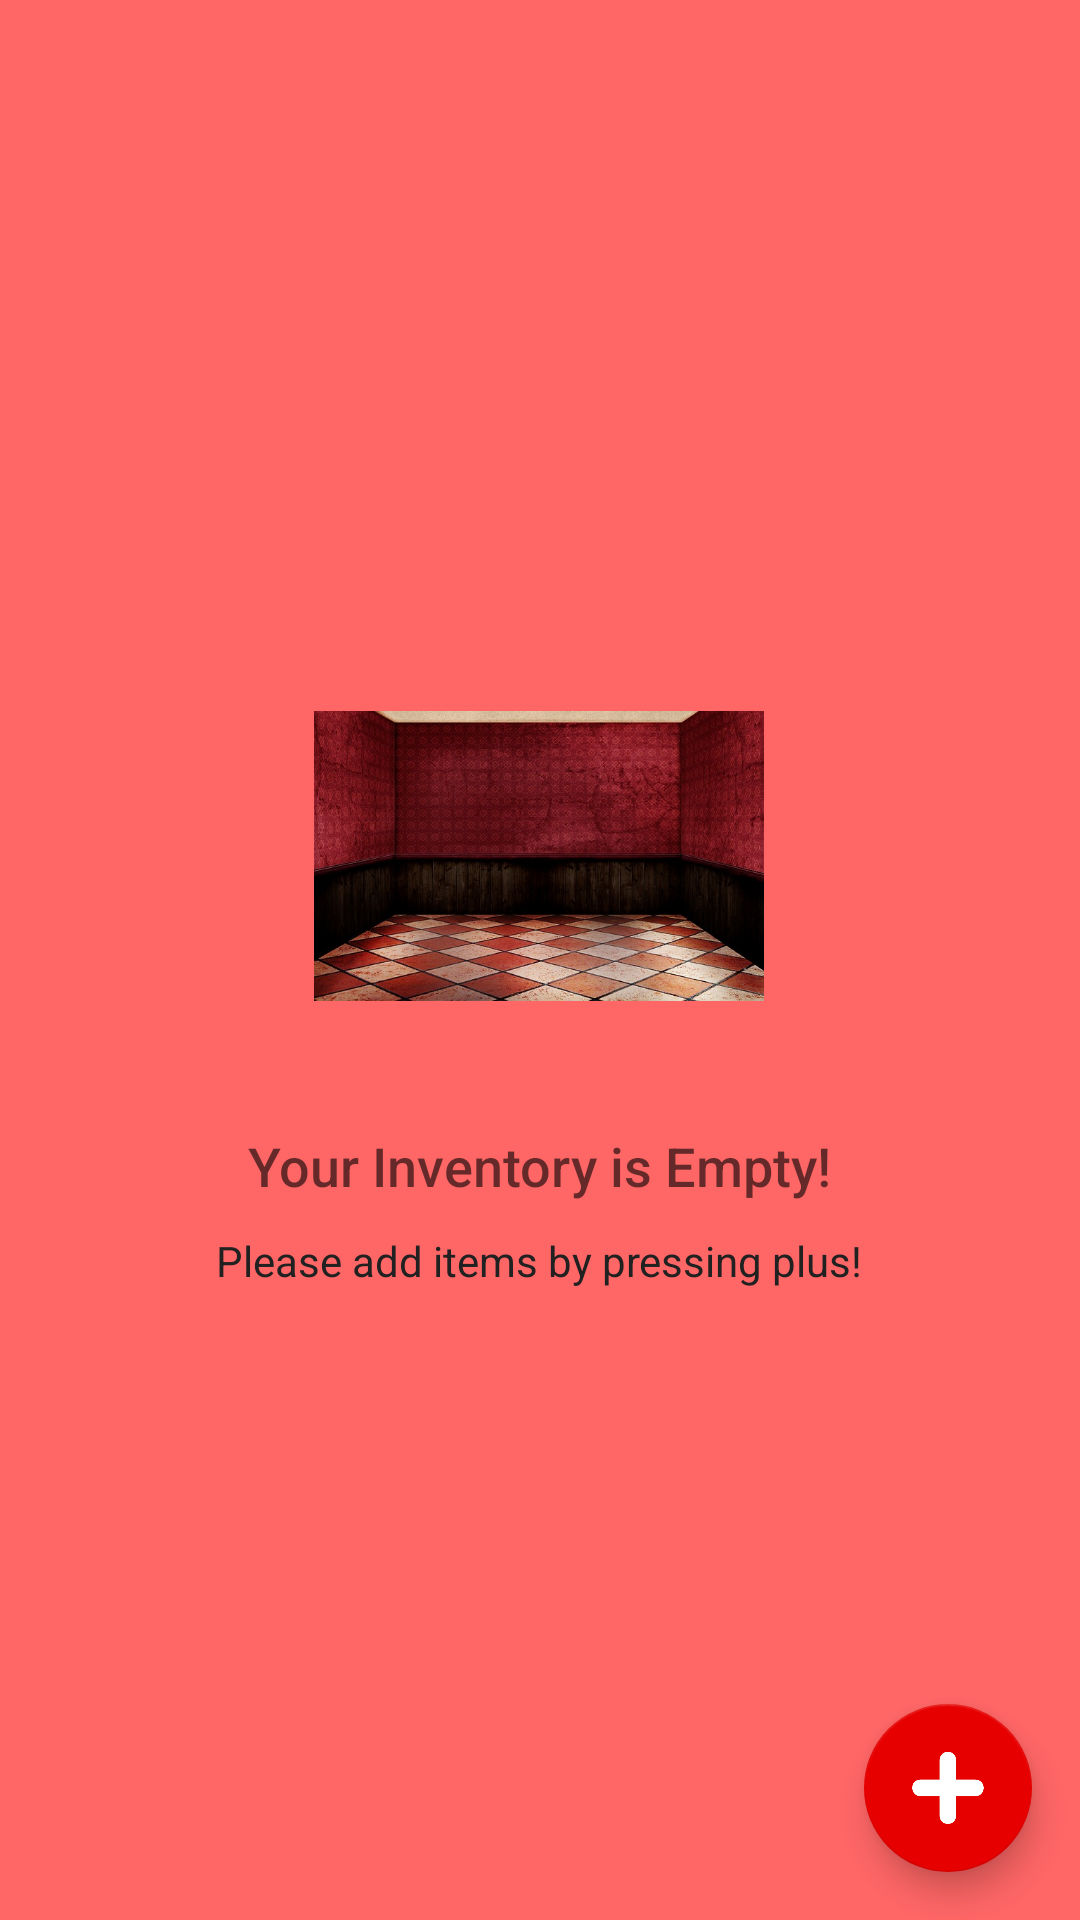

Icons on this 1080×1920 Android screen, each with the point to tap as (x=x, y=y):
add item: (x=948, y=1788)
